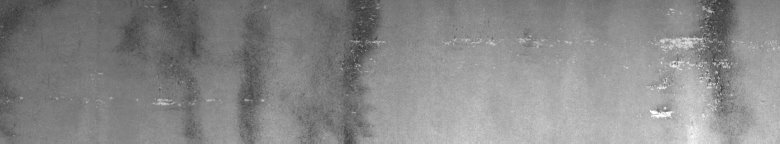hc: (649, 4, 738, 120)
